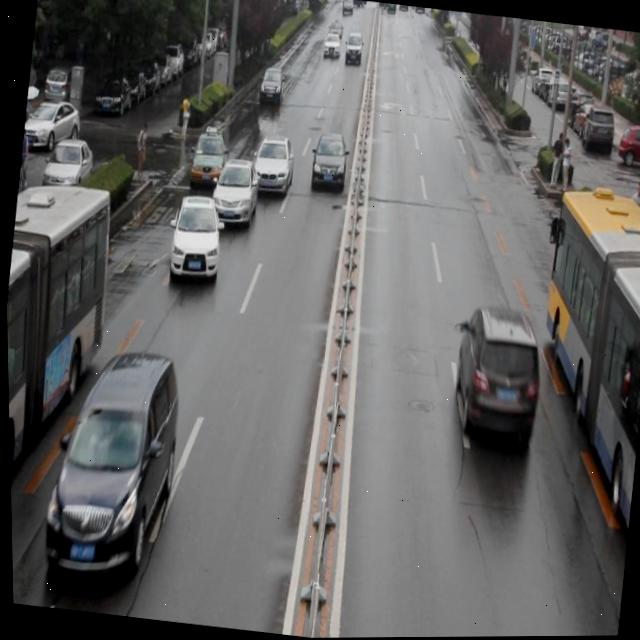car: (37, 346, 186, 583), (439, 300, 546, 455), (164, 194, 223, 286), (204, 155, 261, 233), (248, 135, 295, 198), (185, 126, 227, 192), (307, 134, 347, 193)
van: (511, 193, 640, 532), (3, 177, 120, 510)
